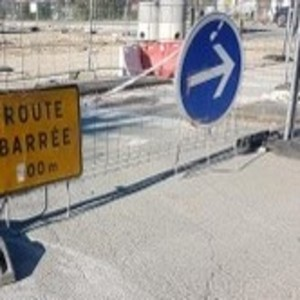trun_right: (177, 12, 241, 124)
